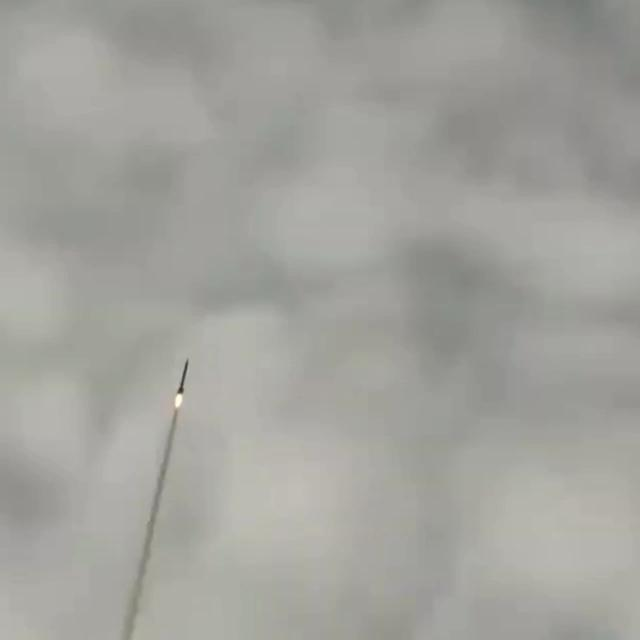smoke_trail_with_rocket: (119, 359, 190, 640)
